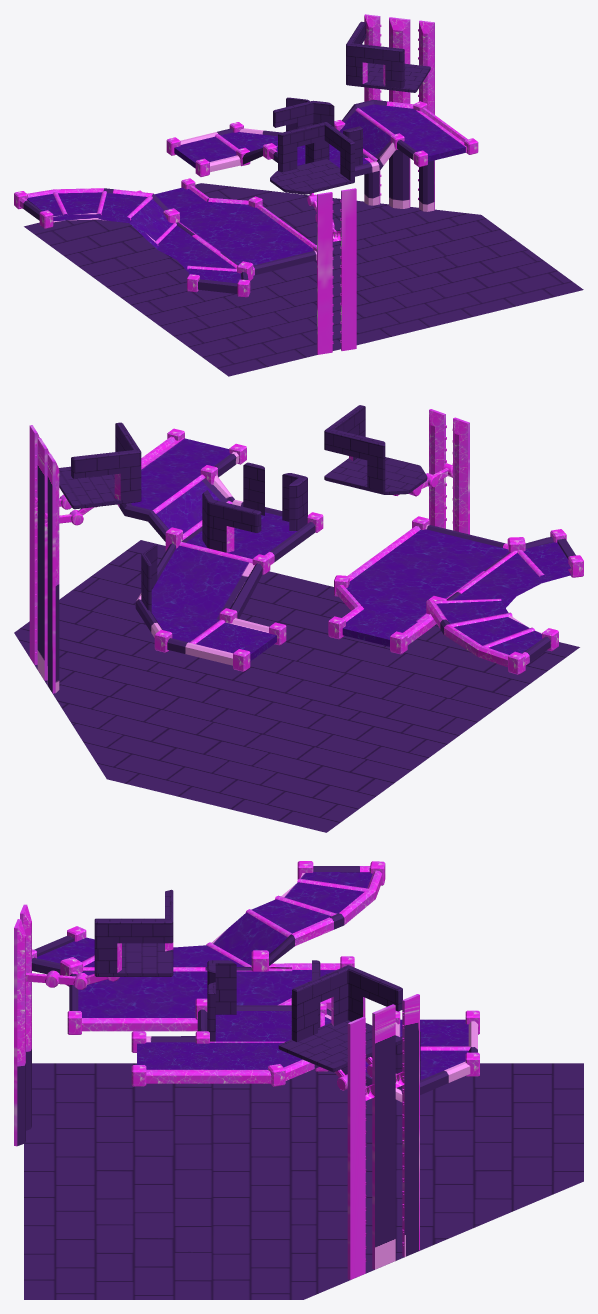
Rendered from City.fbx.
3 views of the same model, one above another, from view 1: azimuth 30°, elevation 25°; view 2: azimuth 150°, elevation 25°; view 3: azimuth 270°, elevation 25° (orthographic). The views are drawn at different scales.
Visible parts, largest first — view 1: City_floor_cobbled, City_floor, City_moving_platform_base, City_moving_platform_base2, City_moving_platform2, City_moving_platform, City_structures; view 2: City_floor_cobbled, City_floor, City_moving_platform_base, City_moving_platform2, City_moving_platform, City_structures, City_moving_platform_base2, City_structure4; view 3: City_floor_cobbled, City_floor, City_moving_platform_base, City_moving_platform, City_moving_platform2, City_moving_platform_base2, City_structures.
Boxes of the visible parts, left/top/right/bottom form: City_floor_cobbled: left=24, top=183, right=583, bottom=376; City_floor: left=14, top=99, right=478, bottom=297; City_moving_platform_base: left=364, top=14, right=434, bottom=211; City_moving_platform_base2: left=317, top=188, right=356, bottom=354; City_moving_platform2: left=270, top=122, right=354, bottom=241; City_moving_platform: left=346, top=21, right=430, bottom=92; City_structures: left=273, top=100, right=362, bottom=166; City_floor_cobbled: left=14, top=540, right=579, bottom=832; City_floor: left=117, top=428, right=583, bottom=674; City_moving_platform_base: left=29, top=425, right=59, bottom=693; City_moving_platform2: left=324, top=405, right=452, bottom=496; City_moving_platform: left=34, top=422, right=141, bottom=528; City_structures: left=202, top=462, right=307, bottom=552; City_moving_platform_base2: left=429, top=409, right=469, bottom=534; City_structure4: left=141, top=545, right=157, bottom=612; City_floor_cobbled: left=24, top=1063, right=583, bottom=1299; City_floor: left=32, top=861, right=479, bottom=1102; City_moving_platform_base: left=347, top=994, right=419, bottom=1279; City_moving_platform: left=278, top=965, right=404, bottom=1100; City_moving_platform2: left=26, top=889, right=173, bottom=989; City_moving_platform_base2: left=14, top=904, right=31, bottom=1146; City_structures: left=207, top=960, right=320, bottom=1041.
Size of the model in its own units: 1930 by 787 by 1590.
